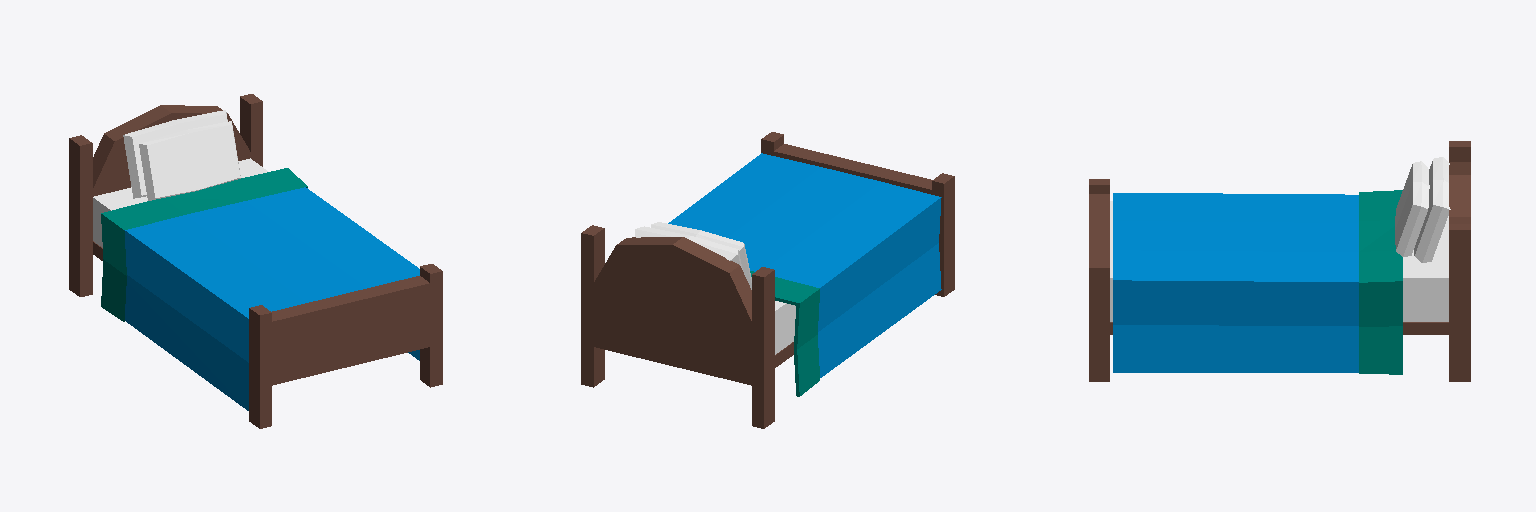
The model's file is sm_bed.obj.
3 views of the same model, side by side, from view 1: azimuth 30°, elevation 25°; view 2: azimuth 150°, elevation 25°; view 3: azimuth 270°, elevation 25° (orthographic).
Parts seen in each view (by area): view 1: Bed_01_Cube.044; view 2: Bed_01_Cube.044; view 3: Bed_01_Cube.044.
Boxes of the visible parts, x1=… form: Bed_01_Cube.044: x1=69, y1=94, x2=442, y2=428; Bed_01_Cube.044: x1=581, y1=132, x2=954, y2=428; Bed_01_Cube.044: x1=1089, y1=141, x2=1470, y2=381.
Size of the model in its own units: 11.98 by 9.94 by 21.16.